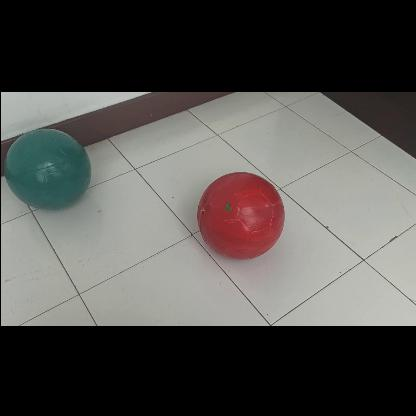red_ball: (199, 172, 285, 258)
